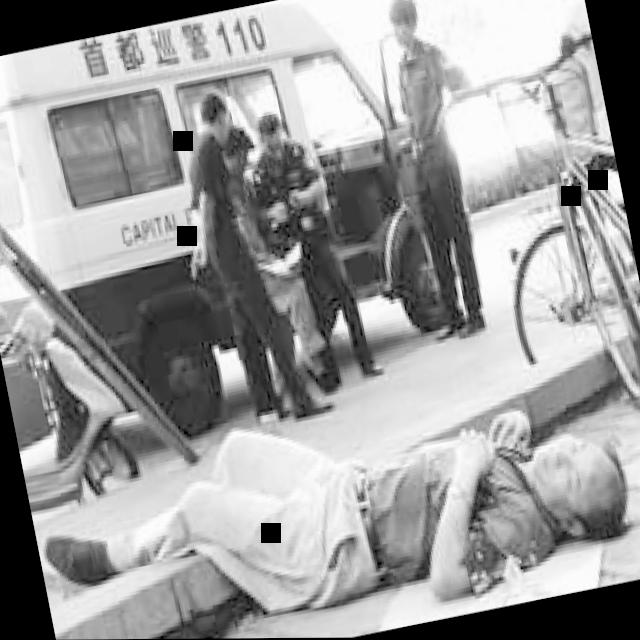Fall-Detected: (17, 321, 640, 640)
